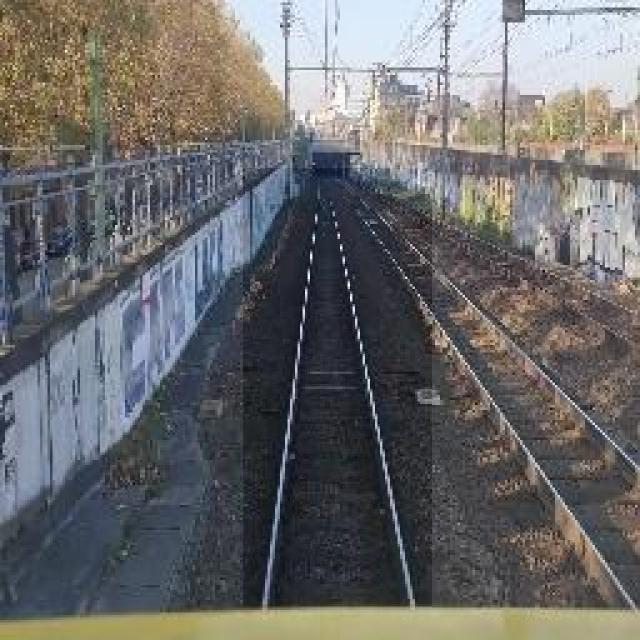rail: (244, 170, 433, 609)
